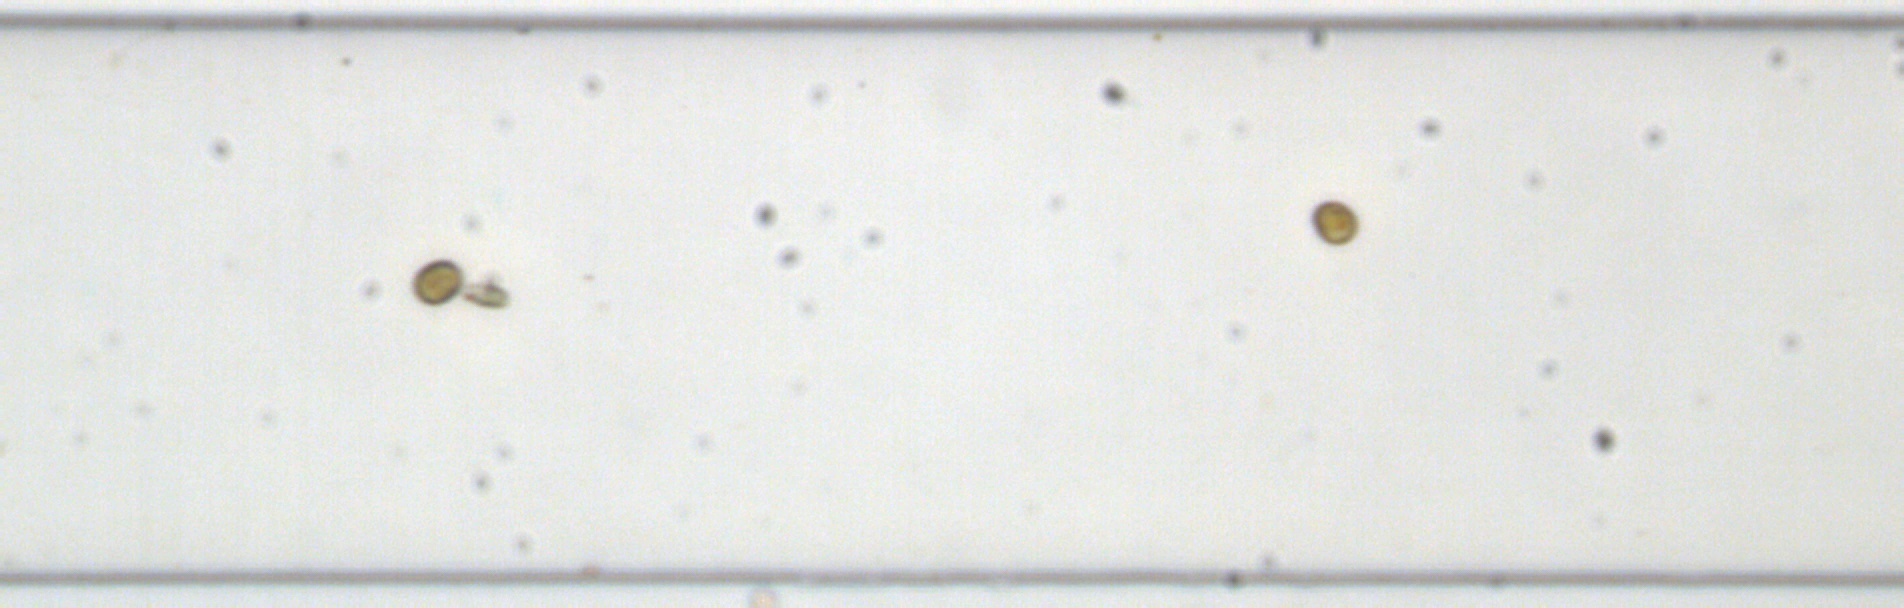Dunaliella salina: (457, 277, 514, 309)
Effrenium: (408, 254, 467, 309), (1308, 198, 1359, 248)
